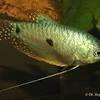Gourami: (2, 12, 100, 93)
